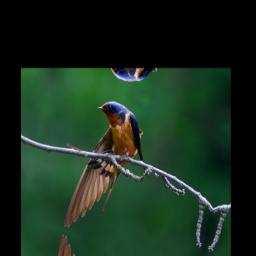Swallow: (62, 92, 159, 249)
